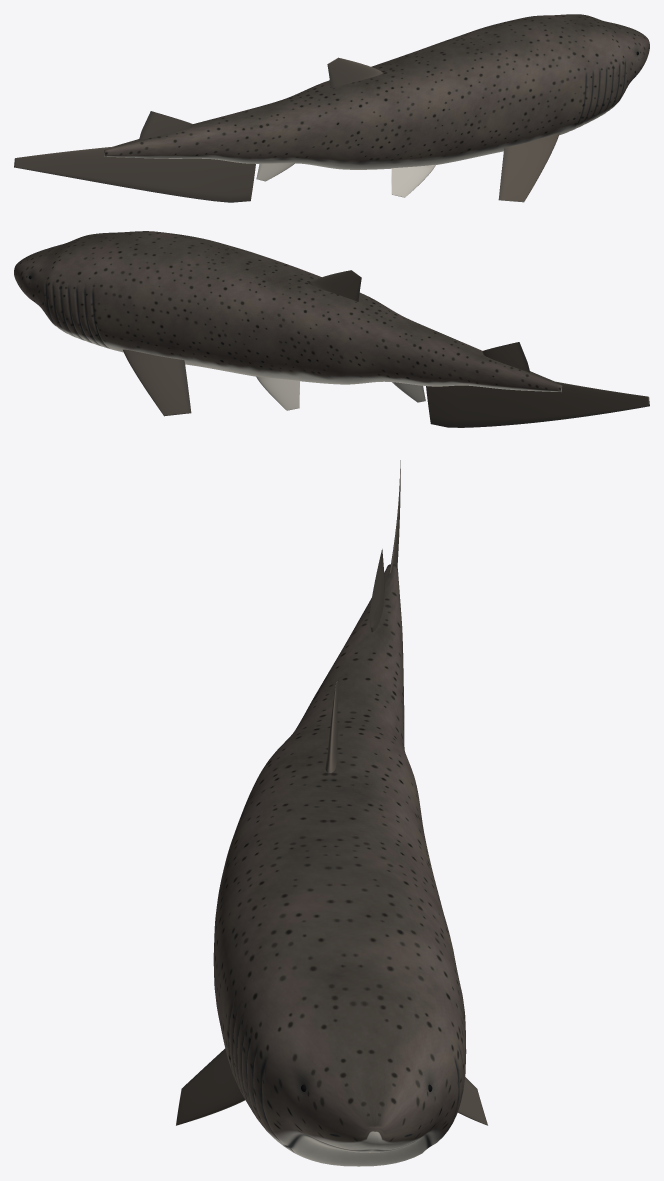
File: broadnose_sevengill_shark.glb
The picture shows the model from 3 angles, top to bottom: view 1: azimuth 30°, elevation 25°; view 2: azimuth 150°, elevation 25°; view 3: azimuth 270°, elevation 25°; orthographic projection. The views are drawn at different scales.
Visible parts, largest first — view 1: BroadnoseSevengillShark_Body, BroadnoseSevengillShark_Fins; view 2: BroadnoseSevengillShark_Body, BroadnoseSevengillShark_Fins; view 3: BroadnoseSevengillShark_Body, BroadnoseSevengillShark_Fins.
Part boxes in pixels (x1,y1,x2,y2): BroadnoseSevengillShark_Body: (104, 14, 649, 169); BroadnoseSevengillShark_Fins: (14, 57, 559, 202); BroadnoseSevengillShark_Body: (14, 231, 562, 392); BroadnoseSevengillShark_Fins: (123, 270, 649, 427); BroadnoseSevengillShark_Body: (213, 564, 466, 1166); BroadnoseSevengillShark_Fins: (176, 460, 487, 1125).
Size of the model in its own units: 2.5 by 0.5739 by 0.5388.
3 materials, 1 textured.
